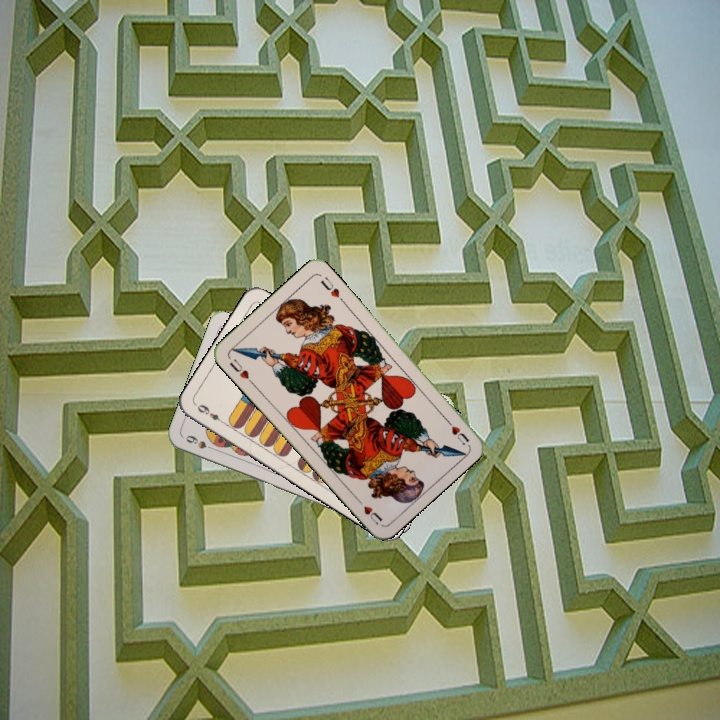E9: (193, 400, 228, 427)
HU: (440, 413, 472, 448), (225, 355, 256, 387)
S9: (182, 431, 220, 454)
